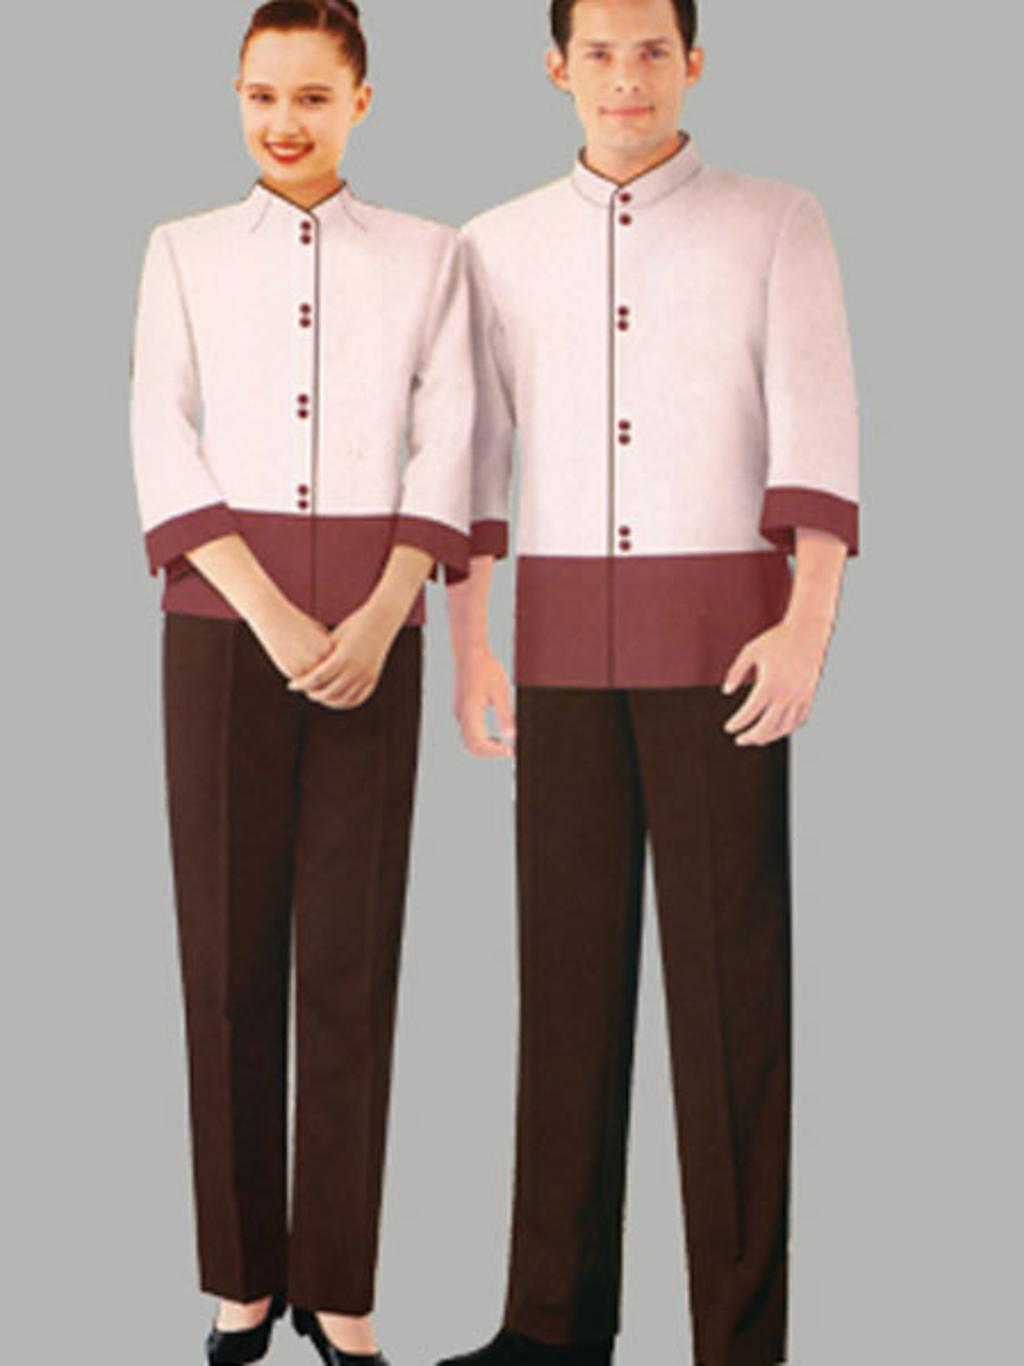face: (237, 35, 349, 187), (571, 8, 686, 152)
